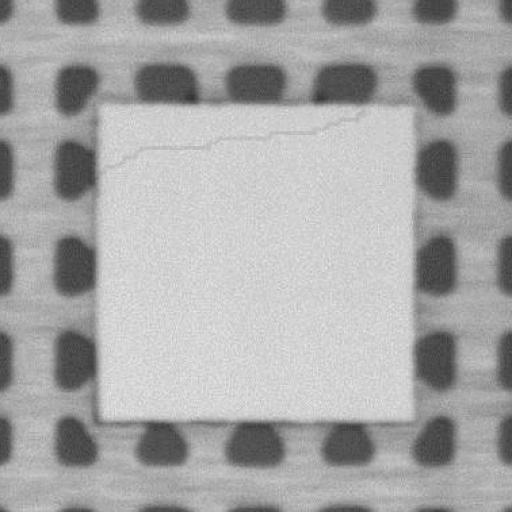DIE_CRACK: (104, 107, 371, 166)
